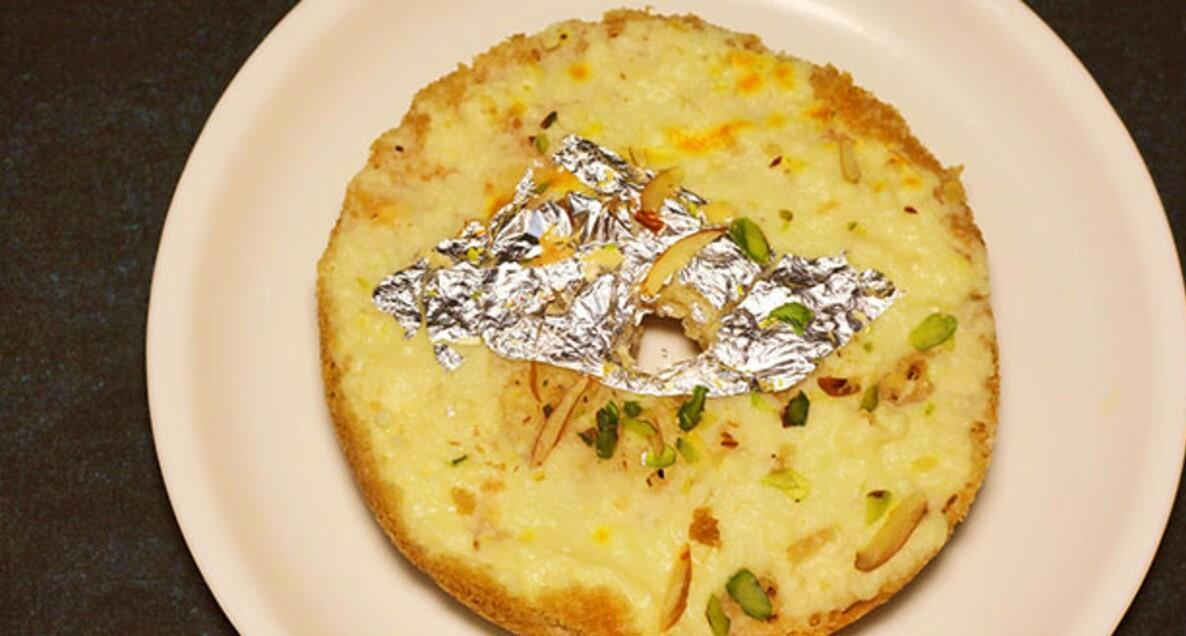Ghevar: (315, 5, 1000, 636)
